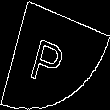P_N: (34, 24, 76, 86)
